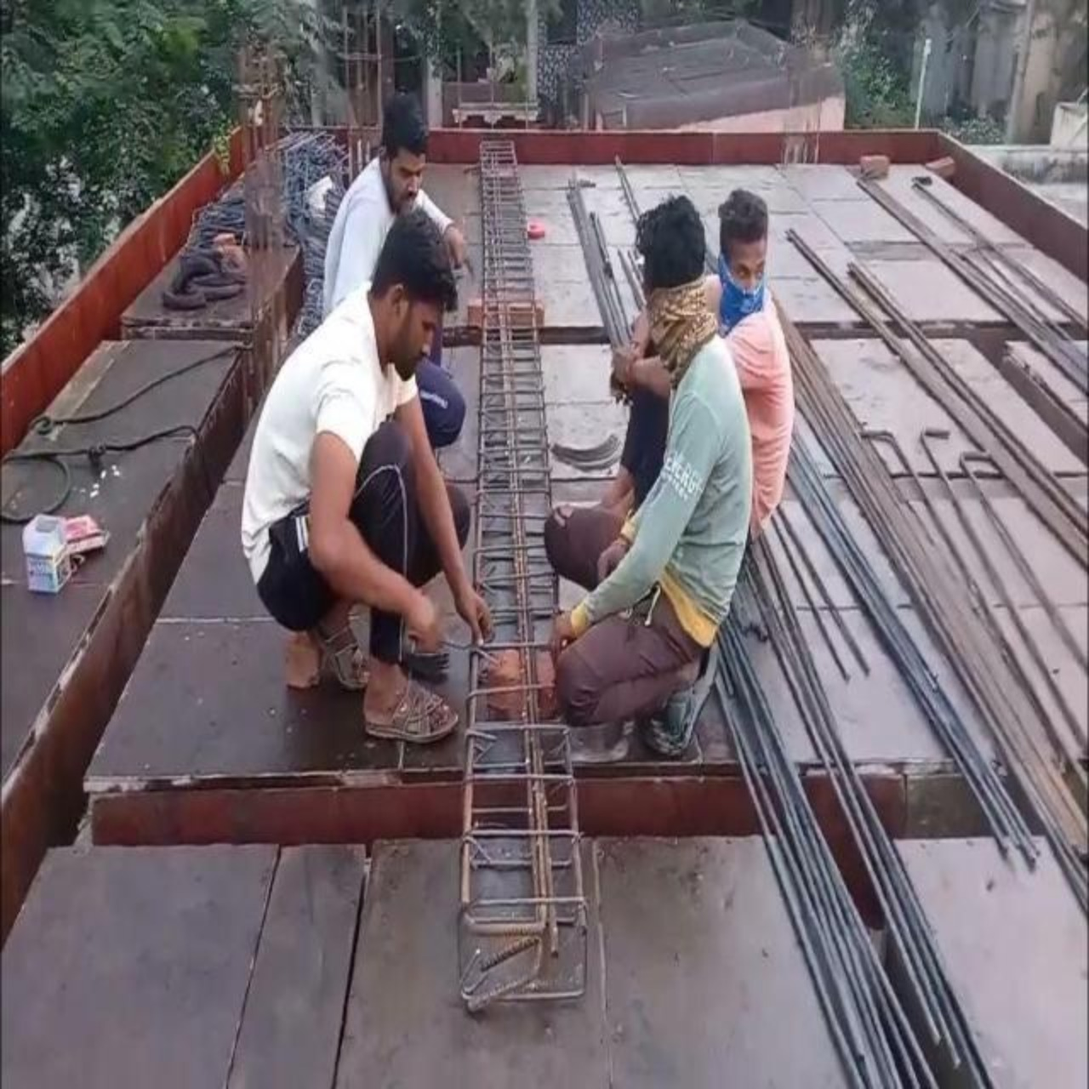no_helmet: (377, 207, 460, 379), (630, 201, 711, 364), (719, 194, 765, 310), (383, 97, 427, 209)
no_vest: (565, 339, 752, 647), (248, 316, 426, 616), (629, 266, 787, 557), (312, 154, 470, 367)
person: (247, 203, 495, 770), (549, 191, 748, 768), (613, 185, 793, 584), (319, 112, 470, 344)
